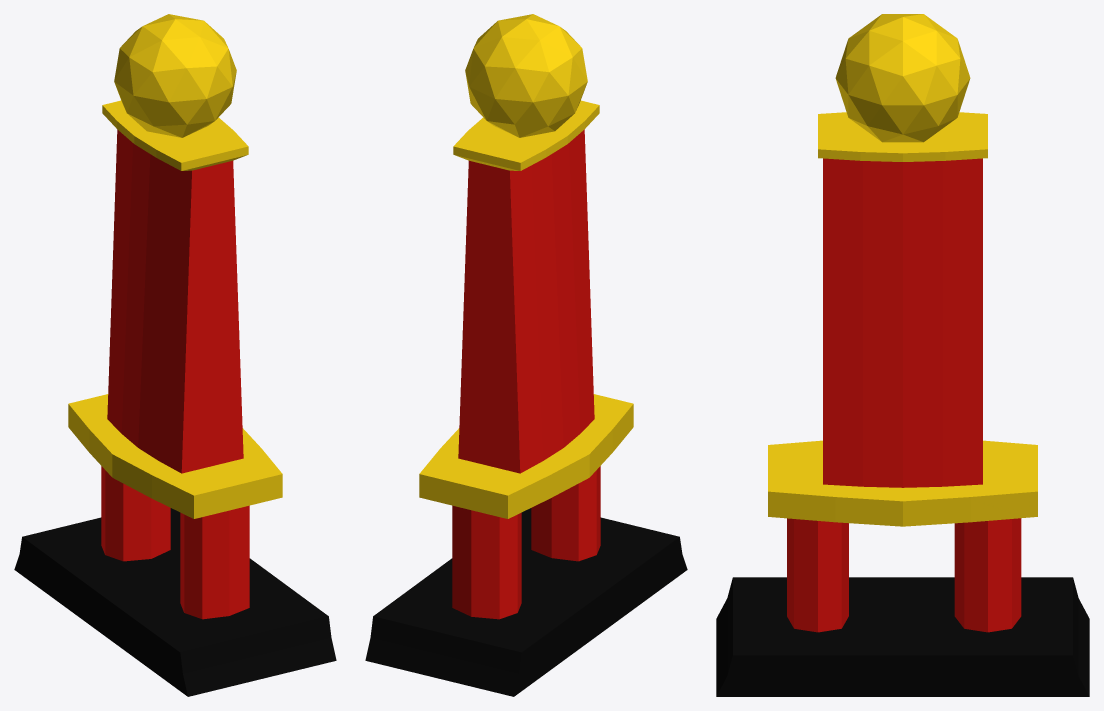
The model's file is Trophy_01.obj.
The picture shows the model from 3 angles, left to right: view 1: azimuth 30°, elevation 25°; view 2: azimuth 150°, elevation 25°; view 3: azimuth 270°, elevation 25°; orthographic projection. The views are drawn at different scales.
Parts seen in each view (by area): view 1: Trophy_Cube.024; view 2: Trophy_Cube.024; view 3: Trophy_Cube.024.
Part boxes in pixels (x1=…): Trophy_Cube.024: x1=14, y1=14, x2=336, y2=696; Trophy_Cube.024: x1=365, y1=14, x2=687, y2=696; Trophy_Cube.024: x1=716, y1=14, x2=1089, y2=696.
Bounding box in the file's own units: 3.97 × 15.17 × 8.01.
